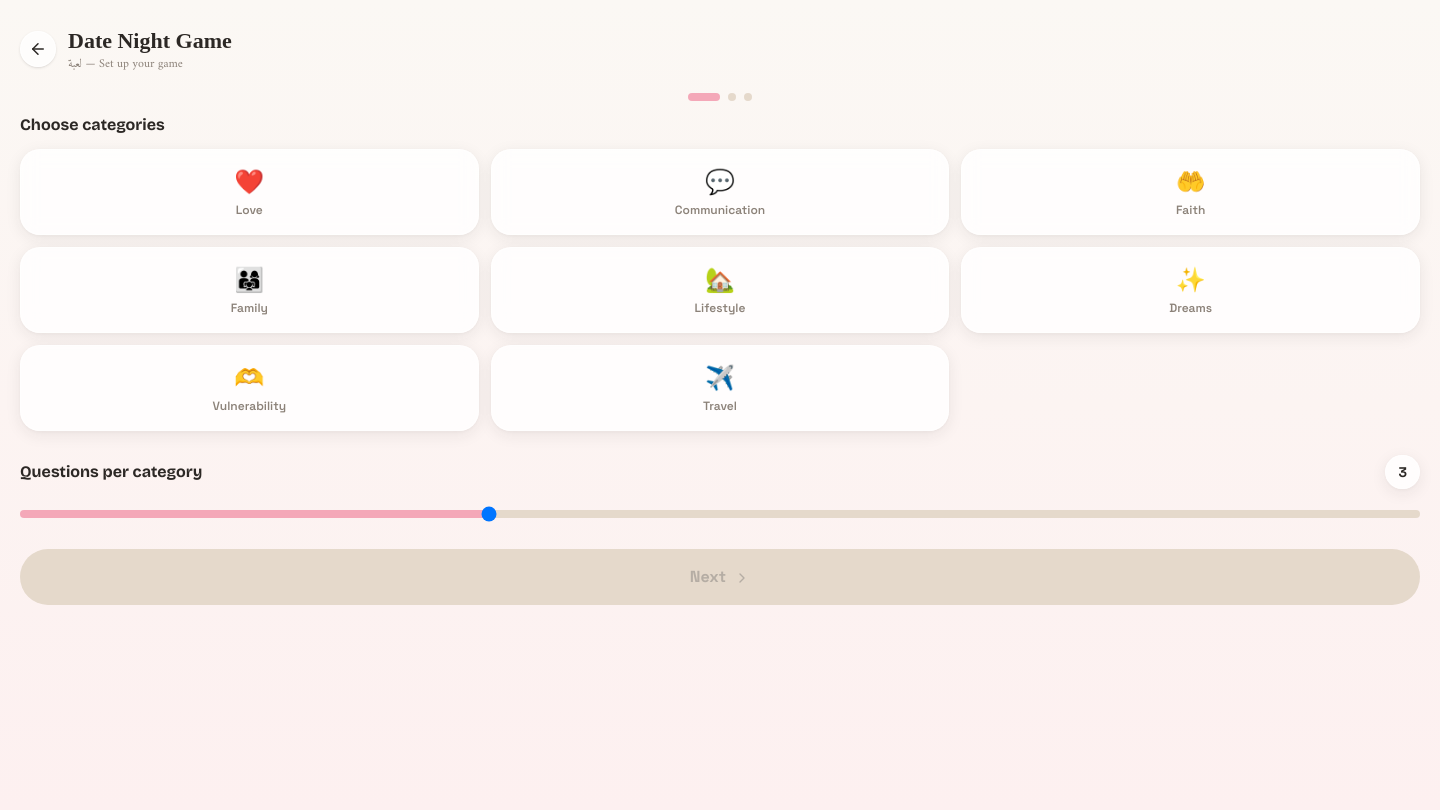
DateNightSetup › toggles category off on repeated click
The image size is (1440, 810).
Click the text "Love". click: point(249, 210)
box: 236,202 -> 263,218
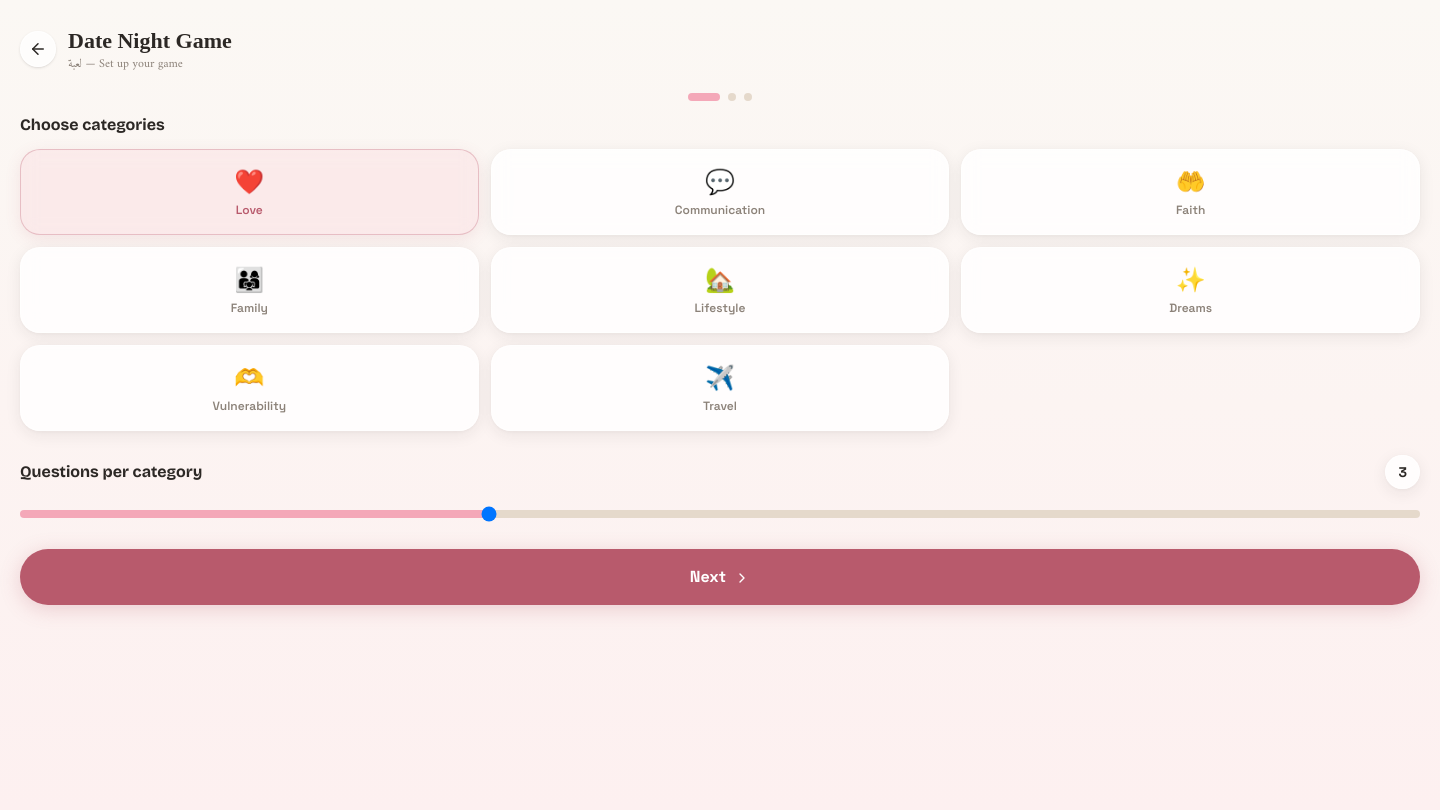
Click the text "Love". click: point(249, 210)
box: 236,202 -> 263,218
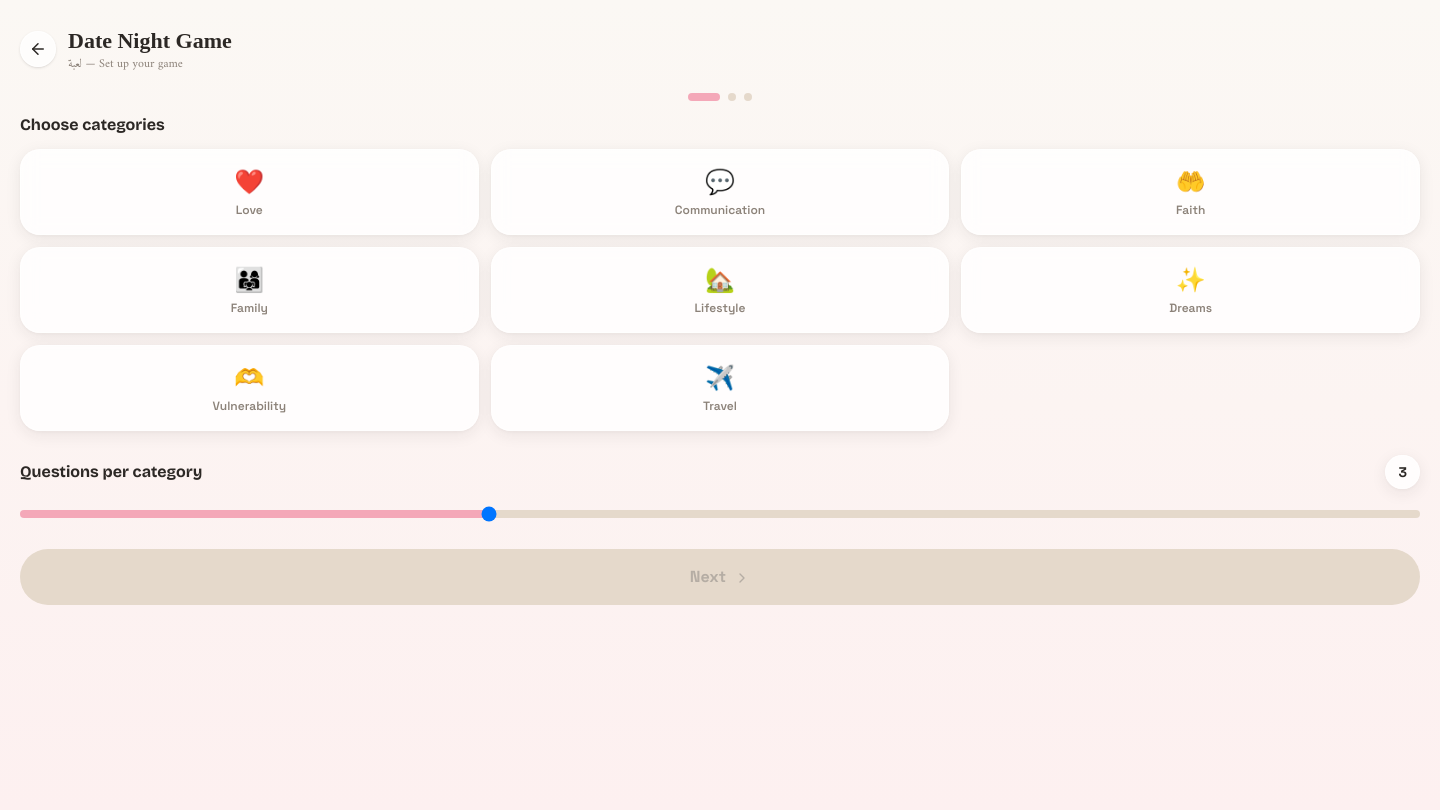
Expected: the button "Next" is disabled, 20,549 -> 1420,605
